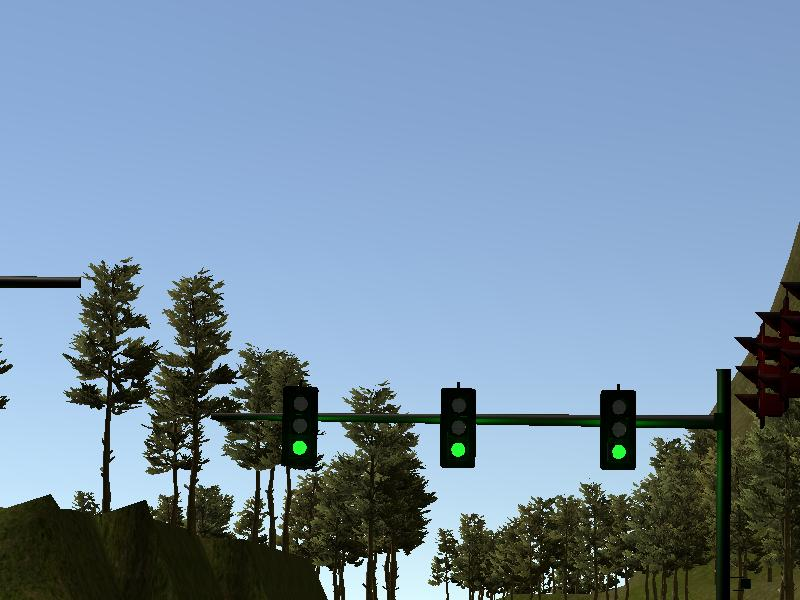Green: (282, 386, 316, 467), (600, 389, 634, 469), (440, 388, 474, 467)
